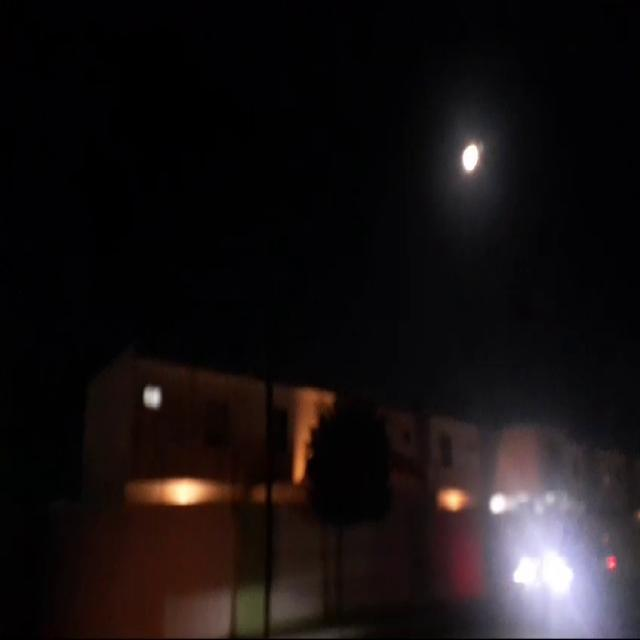moon: (454, 146, 474, 180)
